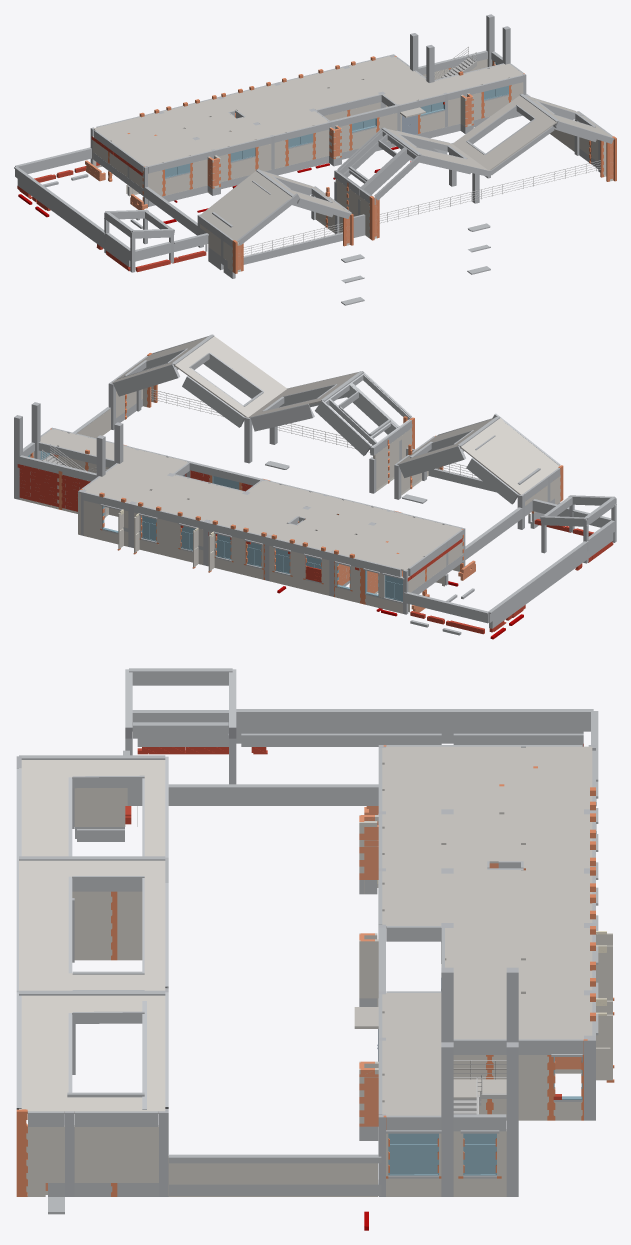
The picture shows the model from 3 angles, top to bottom: view 1: azimuth 30°, elevation 25°; view 2: azimuth 150°, elevation 25°; view 3: azimuth 270°, elevation 25°; orthographic projection. The views are drawn at different scales.
Parts seen in each view (by area): view 1: C_L.002, C_B.002, C_Q.002, C_Z.002, C_GZ.002, C_QT.002, C_QC__T200.002, C_W.002, C_QC__T250.002; view 2: C_L.002, C_B.002, C_Q.002, C_Z.002, C_QC__T250.002, C_W.002, C_GZ.002, C_QT.002, C_QC__T200.002; view 3: C_B.002, C_L.002, C_Q.002, C_Z.002, C_GZ.002, C_W.002, C_QC__T200.002, C_QT.002, C_QC__T250.002.
Part boxes in pixels (x1=…): C_L.002: x1=14, y1=50, x2=613, y2=305; C_B.002: x1=93, y1=56, x2=614, y2=241; C_Q.002: x1=92, y1=59, x2=612, y2=271; C_Z.002: x1=90, y1=14, x2=604, y2=272; C_GZ.002: x1=108, y1=56, x2=616, y2=273; C_QT.002: x1=243, y1=46, x2=600, y2=256; C_QC__T200.002: x1=85, y1=94, x2=613, y2=269; C_W.002: x1=165, y1=62, x2=508, y2=178; C_QC__T250.002: x1=17, y1=102, x2=444, y2=272; C_L.002: x1=19, y1=334, x2=616, y2=635; C_B.002: x1=40, y1=336, x2=560, y2=570; C_Q.002: x1=21, y1=386, x2=560, y2=613; C_Z.002: x1=14, y1=363, x2=616, y2=614; C_QC__T250.002: x1=17, y1=454, x2=613, y2=634; C_W.002: x1=27, y1=451, x2=402, y2=601; C_GZ.002: x1=30, y1=353, x2=563, y2=604; C_QT.002: x1=41, y1=389, x2=479, y2=479; C_QC__T200.002: x1=123, y1=420, x2=533, y2=612; C_B.002: x1=19, y1=746, x2=592, y2=1115; C_L.002: x1=16, y1=668, x2=598, y2=1214; C_Q.002: x1=26, y1=788, x2=612, y2=1196; C_Z.002: x1=65, y1=738, x2=595, y2=1196; C_GZ.002: x1=16, y1=745, x2=614, y2=1196; C_W.002: x1=388, y1=1057, x2=582, y2=1175; C_QC__T200.002: x1=26, y1=806, x2=581, y2=1192; C_QT.002: x1=453, y1=1060, x2=506, y2=1114; C_QC__T250.002: x1=125, y1=744, x2=583, y2=1099.
Size of the model in its own units: 44 by 12.9 by 24.76.
